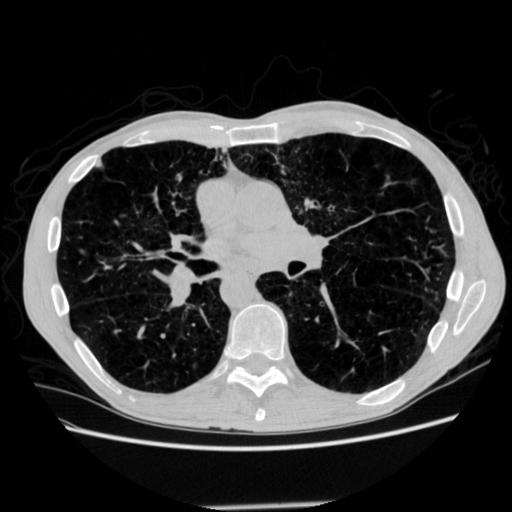nodule: (96, 159, 107, 170)
